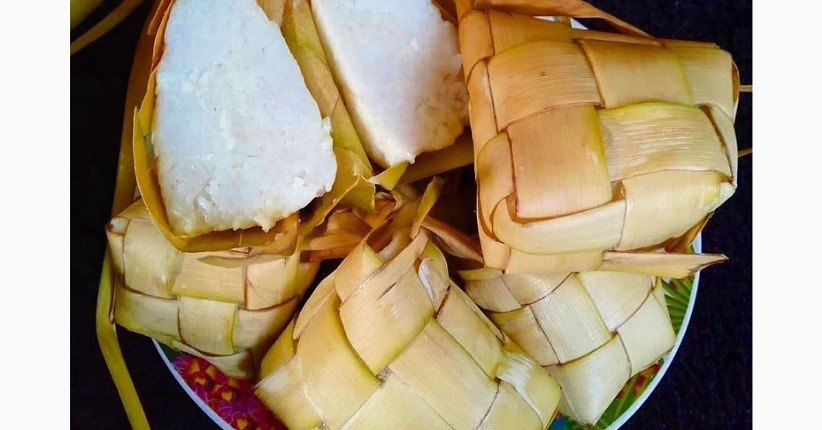ketupat: (456, 8, 739, 276)
